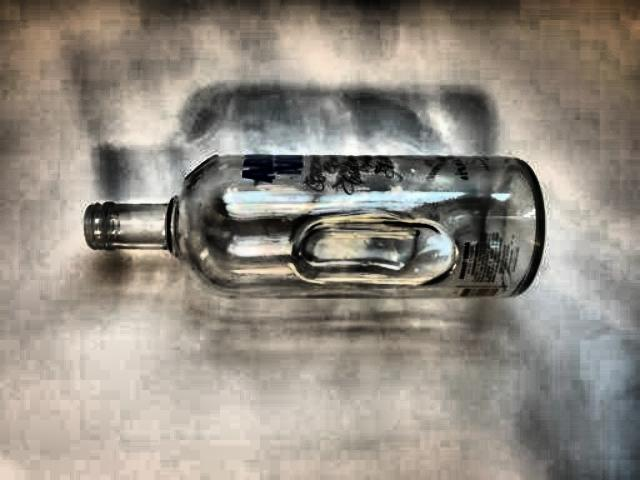Bottles: (67, 130, 561, 318)
